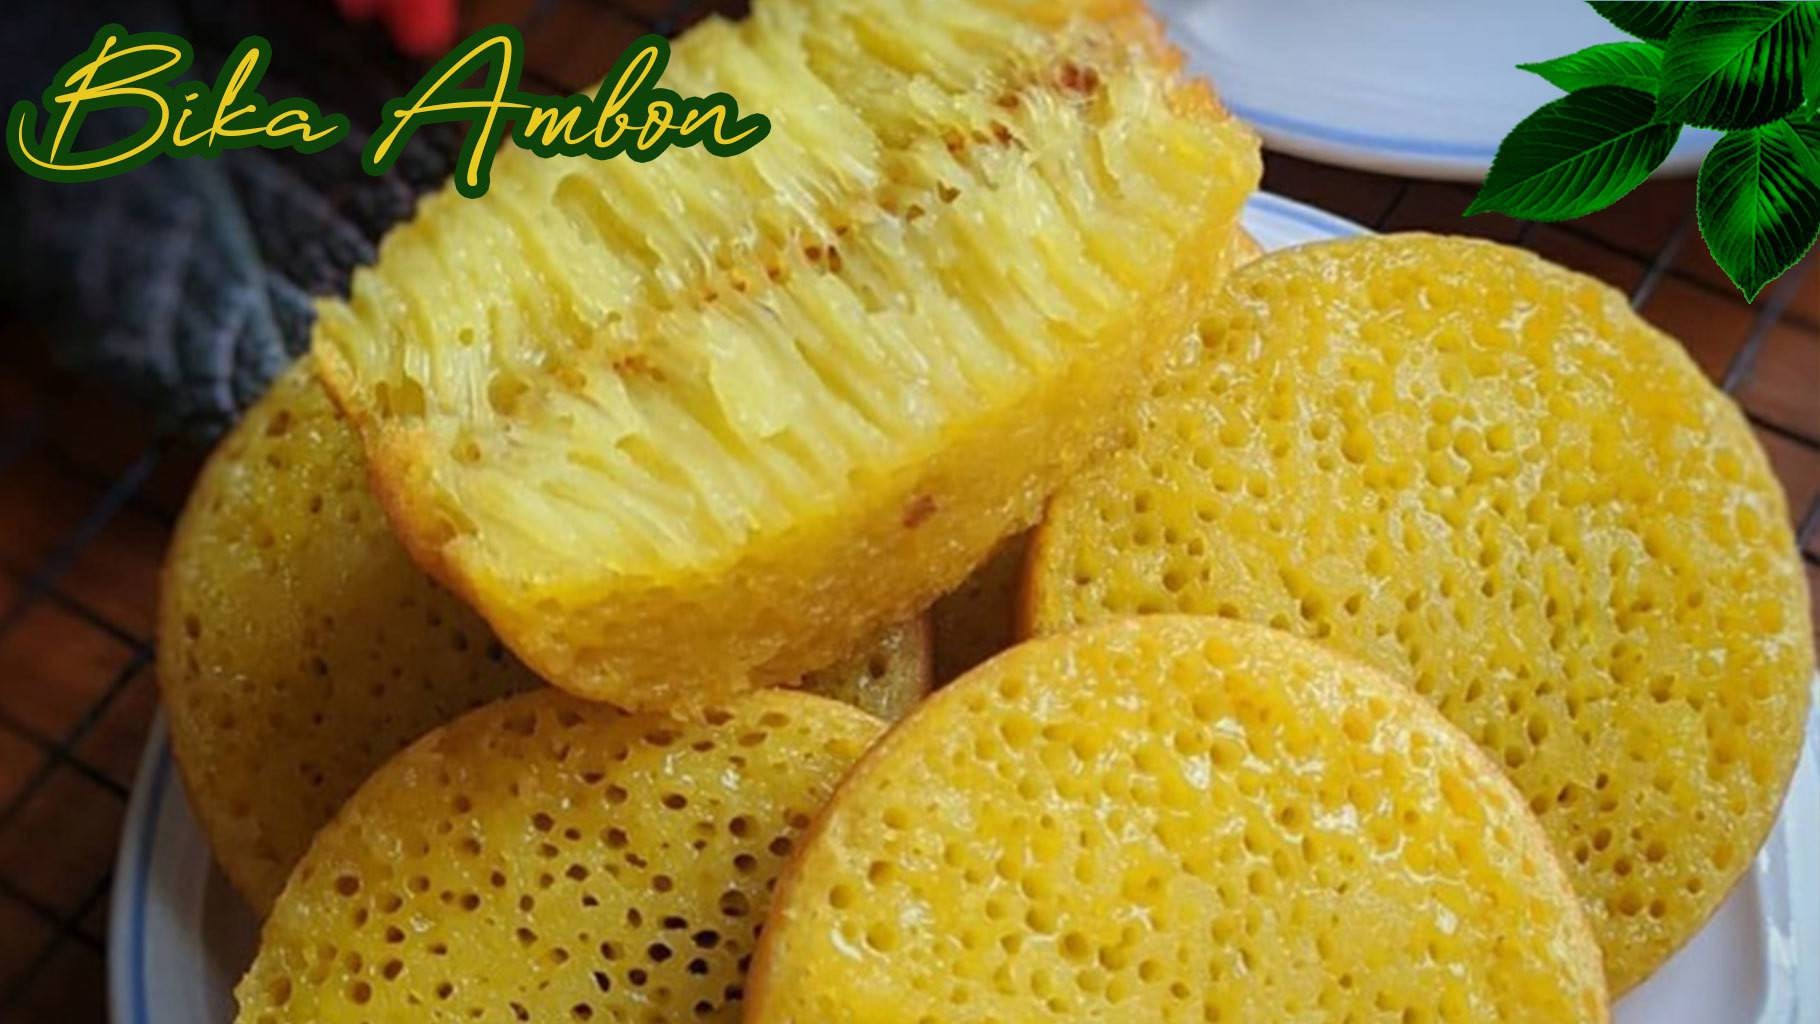bika_ambon: (332, 30, 1180, 611)
